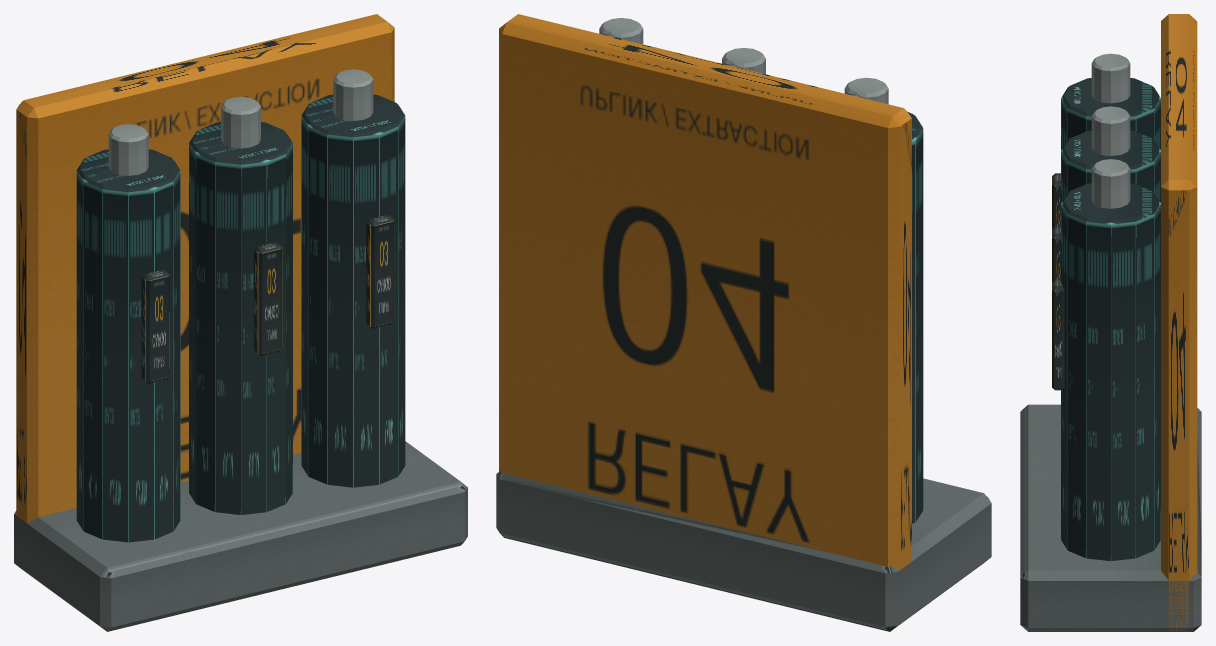
Rendered from oxygen_rack_LOD1.obj.
3 renders of one model, left to right at view 1: azimuth 30°, elevation 25°; view 2: azimuth 150°, elevation 25°; view 3: azimuth 270°, elevation 25°, orthographic. The views are drawn at different scales.
Parts seen in each view (by area): view 1: L02_oxygen_rack_LOD1; view 2: L02_oxygen_rack_LOD1; view 3: L02_oxygen_rack_LOD1.
Part boxes in pixels (x1,y1,x2,y2): L02_oxygen_rack_LOD1: (14,14,467,631); L02_oxygen_rack_LOD1: (496,14,991,631); L02_oxygen_rack_LOD1: (1020,14,1201,631).
Bounding box in the file's own units: 1.8 × 2.2 × 0.8.
Materials: 1 (1 with a texture image).
